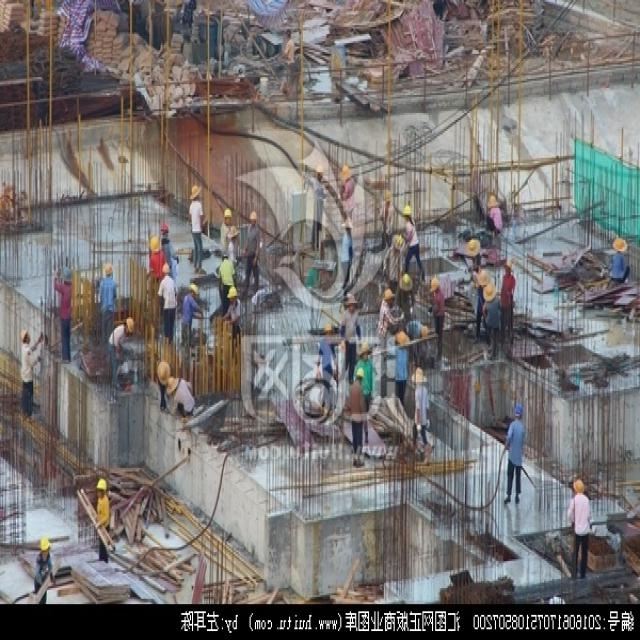Con_Casco: (39, 537, 50, 559), (96, 477, 108, 496), (515, 403, 523, 418)
Sin_Casco_Mascarrilla: (410, 365, 427, 387), (157, 360, 170, 385), (168, 373, 179, 396)
Sin_Chaleco: (507, 419, 526, 469)
